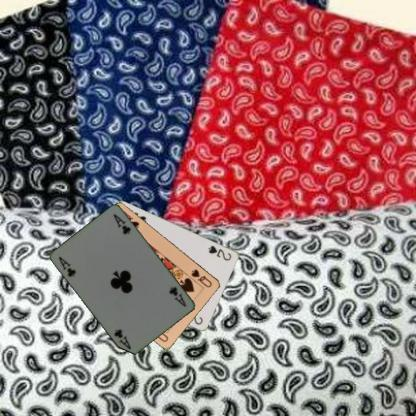2s: (206, 242, 233, 262)
Ac: (166, 284, 188, 309), (56, 254, 78, 278)
Qs: (189, 266, 213, 289)
